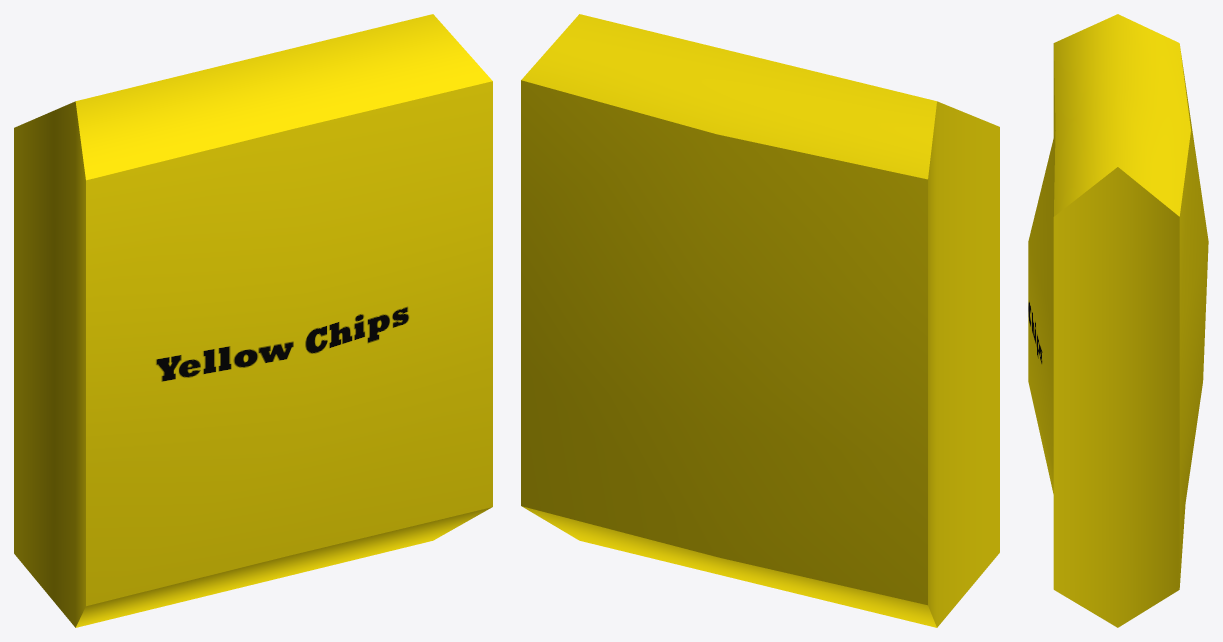
File: chips.fbx
The picture shows the model from 3 angles, left to right: view 1: azimuth 30°, elevation 25°; view 2: azimuth 150°, elevation 25°; view 3: azimuth 270°, elevation 25°; orthographic projection. The views are drawn at different scales.
Parts seen in each view (by area): view 1: pCube1; view 2: pCube1; view 3: pCube1.
Boxes of the visible parts, <box> form: pCube1: <box>14,14,492,627</box>; pCube1: <box>521,14,999,627</box>; pCube1: <box>1028,14,1208,627</box>.
Bounding box in the file's own units: 1 × 1.24 × 0.4381.
